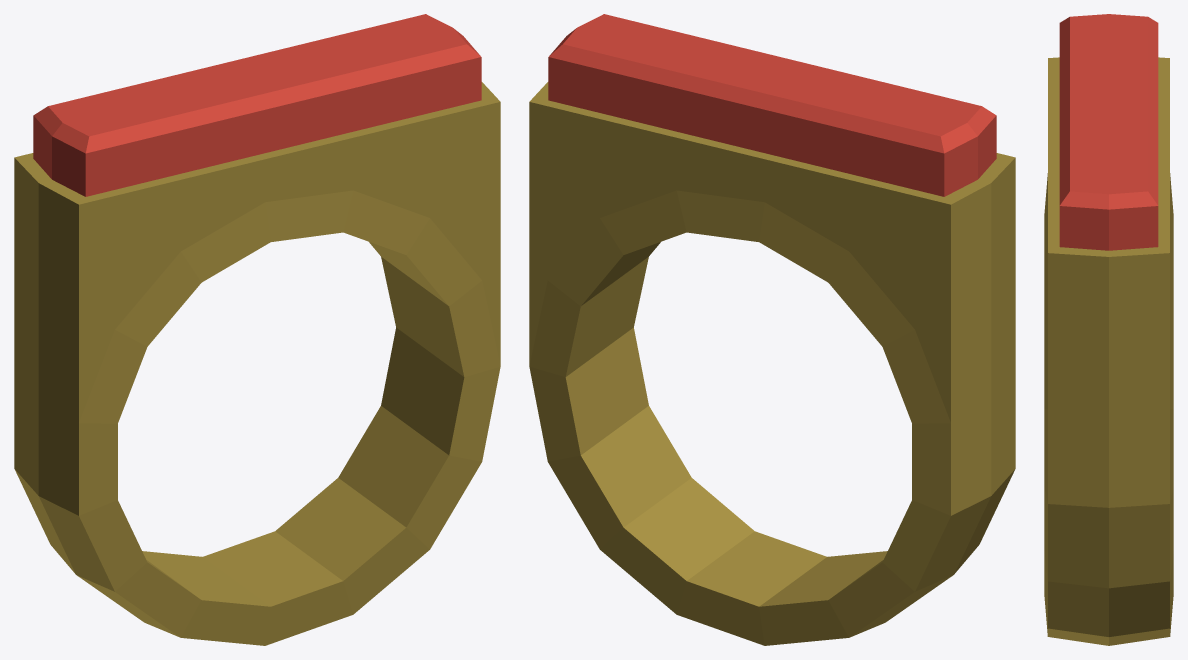
File: Ring3.glb
3 renders of one model, left to right at view 1: azimuth 30°, elevation 25°; view 2: azimuth 150°, elevation 25°; view 3: azimuth 270°, elevation 25°, orthographic. The views are drawn at different scales.
Parts seen in each view (by area): view 1: Ring3; view 2: Ring3; view 3: Ring3.
Boxes of the visible parts, <box> form: Ring3: <box>14,14,500,645</box>; Ring3: <box>529,14,1015,645</box>; Ring3: <box>1044,14,1173,645</box>.
Size of the model in its own units: 0.6693 by 0.8025 by 0.1804.
